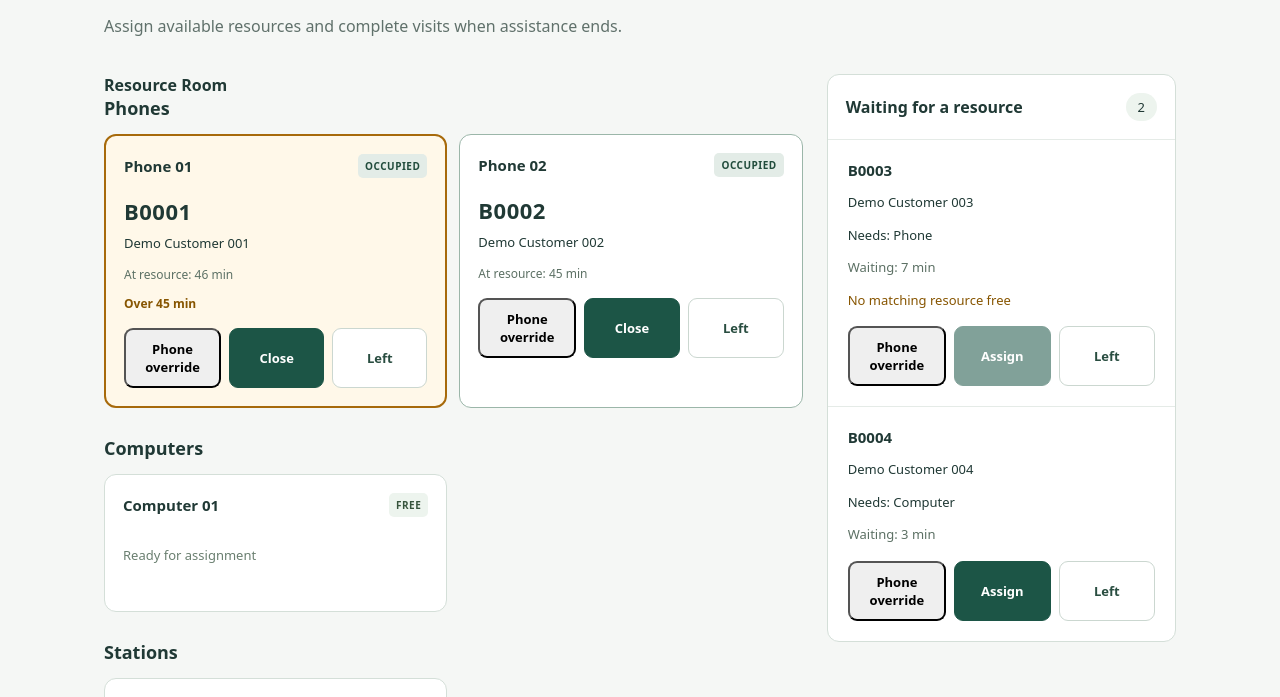
left on an occupied tile frees inventory and enables a waiting assignment
(page scrolled)
Click the button "Left" below "46 min": coordinates (380, 358) [332,328,427,388]
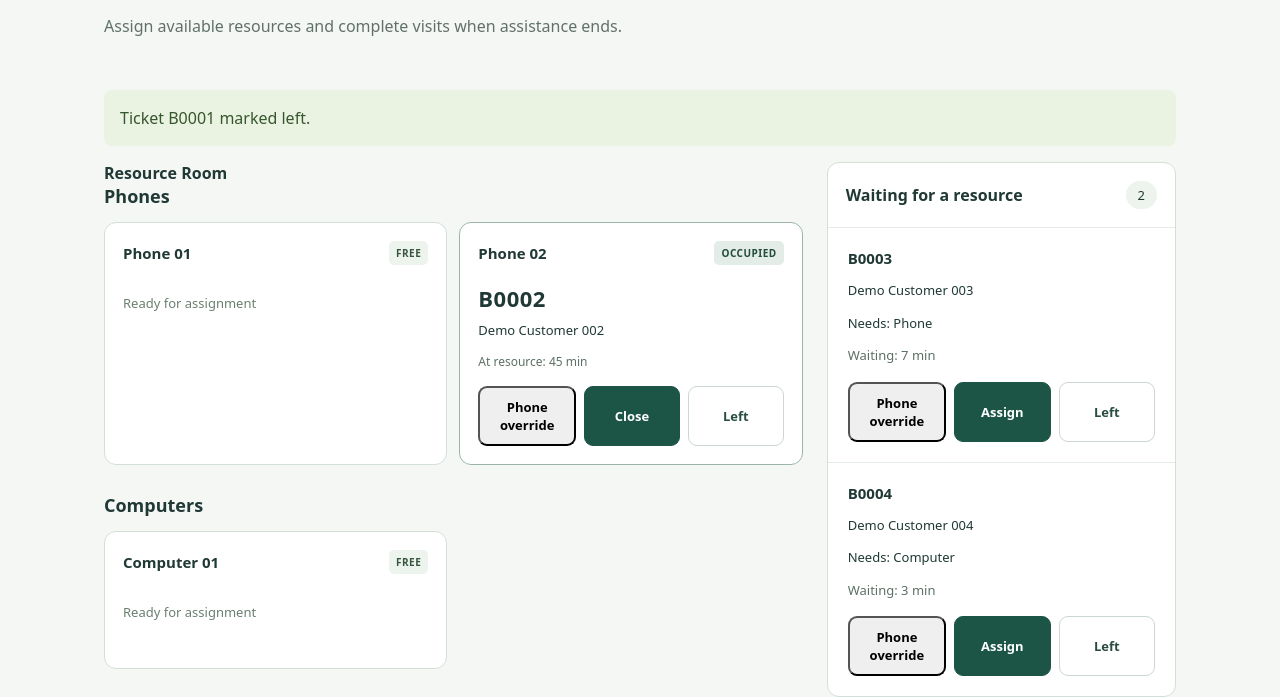
Check: the button with aria-label "Assign B0003" is enabled, box [954,382,1051,442]
Check: the text "FREE" in the row of "Phone 01" is shown, box [396,246,421,260]
